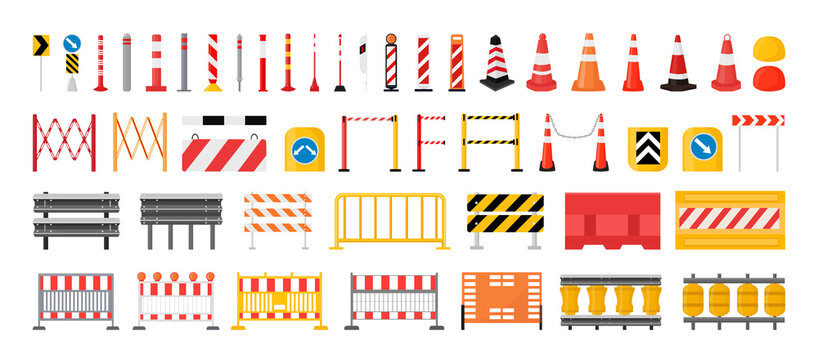Barrier: (549, 262, 671, 343), (664, 180, 795, 252), (677, 266, 795, 341), (323, 187, 454, 250), (338, 258, 446, 334), (221, 266, 334, 338), (26, 265, 126, 341), (561, 187, 665, 257), (454, 264, 551, 331), (127, 192, 229, 252), (131, 269, 223, 333), (26, 188, 124, 248), (458, 188, 548, 249), (237, 185, 318, 251)
